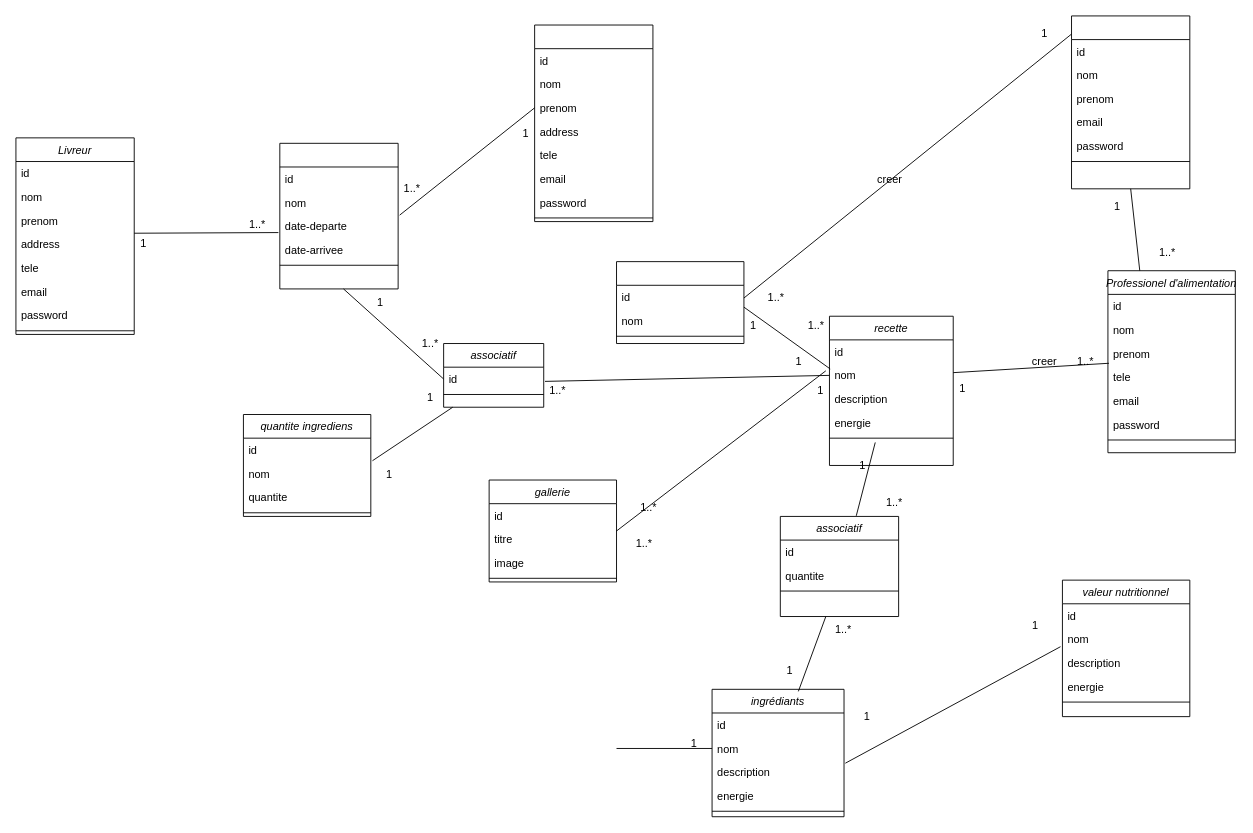
Image size: 1253x833. Some labels were removed from this diagram. Here are the shapes that lost their labels. From the top down, the box of each, then its label:
(1071, 15, 1190, 189): Admin generale
(534, 24, 653, 222): User
(279, 142, 398, 289): reservation
(616, 261, 744, 344): Categorie
